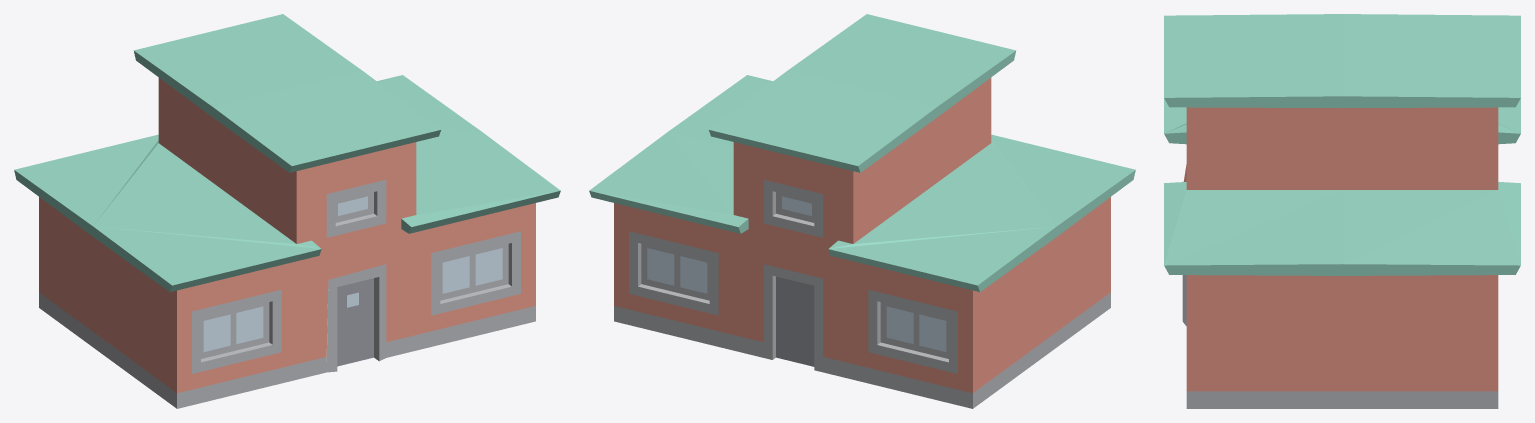
Rendered from house_type09mod.fbx.
3 views of the same model, side by side, from view 1: azimuth 30°, elevation 25°; view 2: azimuth 150°, elevation 25°; view 3: azimuth 270°, elevation 25° (orthographic). The views are drawn at different scales.
Parts seen in each view (by area): view 1: house_type09; view 2: house_type09; view 3: house_type09.
Part boxes in pixels (x1=…): house_type09: x1=14, y1=14, x2=560, y2=408; house_type09: x1=589, y1=14, x2=1135, y2=408; house_type09: x1=1164, y1=14, x2=1520, y2=408.
Bounding box in the file's own units: 130 × 72.23 × 91.63.
